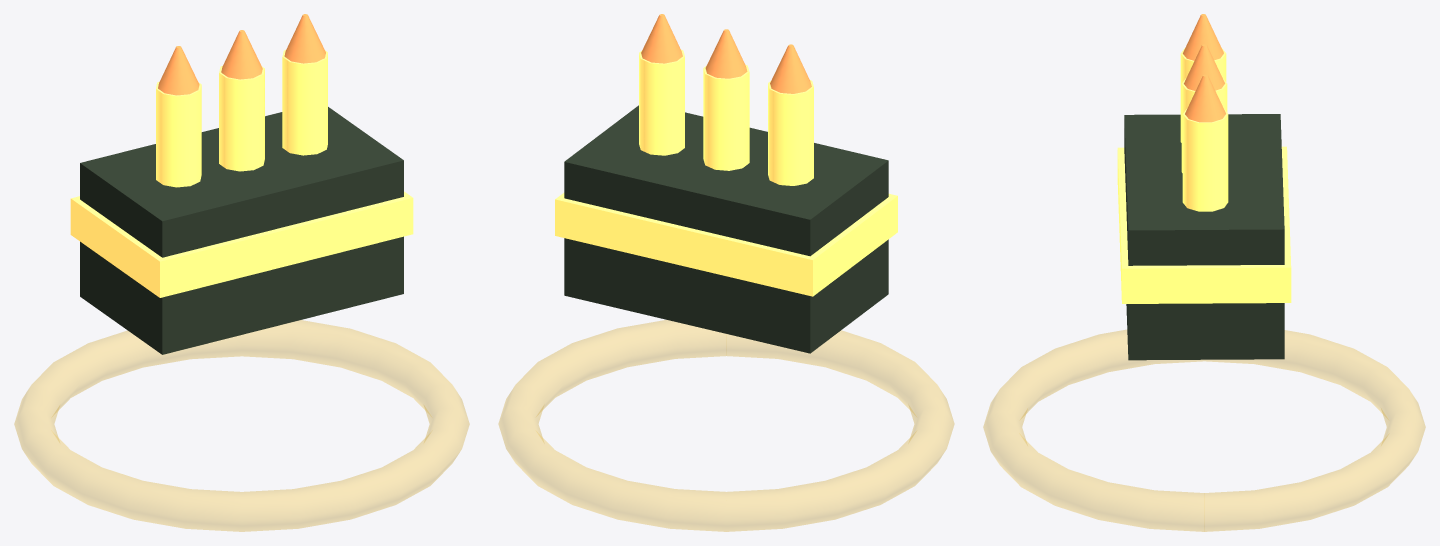
File: pickup_ammo.glb
3 views of the same model, side by side, from view 1: azimuth 30°, elevation 25°; view 2: azimuth 150°, elevation 25°; view 3: azimuth 270°, elevation 25° (orthographic). The views are drawn at different scales.
Visible parts, largest first — view 1: _MeshInstance3D_4218, _MeshInstance3D_4226, _MeshInstance3D_4219, _MeshInstance3D_4222, _MeshInstance3D_4220, _MeshInstance3D_4224, _MeshInstance3D_4223, _MeshInstance3D_4225, _MeshInstance3D_4221; view 2: _MeshInstance3D_4218, _MeshInstance3D_4226, _MeshInstance3D_4219, _MeshInstance3D_4222, _MeshInstance3D_4224, _MeshInstance3D_4220, _MeshInstance3D_4223, _MeshInstance3D_4225, _MeshInstance3D_4221; view 3: _MeshInstance3D_4226, _MeshInstance3D_4218, _MeshInstance3D_4219, _MeshInstance3D_4224, _MeshInstance3D_4225, _MeshInstance3D_4221, _MeshInstance3D_4223, _MeshInstance3D_4222, _MeshInstance3D_4220.
Boxes of the visible parts, x1=… form: _MeshInstance3D_4218: x1=80, y1=107, x2=403, y2=354; _MeshInstance3D_4226: x1=14, y1=320, x2=469, y2=531; _MeshInstance3D_4219: x1=70, y1=191, x2=413, y2=297; _MeshInstance3D_4222: x1=219, y1=65, x2=264, y2=171; _MeshInstance3D_4220: x1=156, y1=81, x2=201, y2=187; _MeshInstance3D_4224: x1=282, y1=50, x2=327, y2=155; _MeshInstance3D_4223: x1=221, y1=30, x2=262, y2=79; _MeshInstance3D_4225: x1=284, y1=14, x2=325, y2=63; _MeshInstance3D_4221: x1=158, y1=46, x2=199, y2=95; _MeshInstance3D_4218: x1=564, y1=105, x2=888, y2=353; _MeshInstance3D_4226: x1=498, y1=320, x2=954, y2=531; _MeshInstance3D_4219: x1=555, y1=192, x2=897, y2=296; _MeshInstance3D_4222: x1=703, y1=64, x2=749, y2=170; _MeshInstance3D_4224: x1=639, y1=49, x2=684, y2=155; _MeshInstance3D_4220: x1=768, y1=80, x2=813, y2=185; _MeshInstance3D_4223: x1=705, y1=29, x2=747, y2=78; _MeshInstance3D_4225: x1=641, y1=14, x2=682, y2=63; _MeshInstance3D_4221: x1=770, y1=44, x2=811, y2=93; _MeshInstance3D_4226: x1=983, y1=329, x2=1425, y2=531; _MeshInstance3D_4218: x1=1124, y1=114, x2=1284, y2=360; _MeshInstance3D_4219: x1=1117, y1=146, x2=1291, y2=303; _MeshInstance3D_4224: x1=1182, y1=108, x2=1228, y2=211; _MeshInstance3D_4225: x1=1185, y1=74, x2=1225, y2=122; _MeshInstance3D_4221: x1=1183, y1=14, x2=1223, y2=60; _MeshInstance3D_4223: x1=1184, y1=44, x2=1224, y2=90; _MeshInstance3D_4222: x1=1181, y1=78, x2=1227, y2=172; _MeshInstance3D_4220: x1=1180, y1=48, x2=1226, y2=142.
Bounding box in the file's own units: 0.68 × 0.6732 × 0.68.
